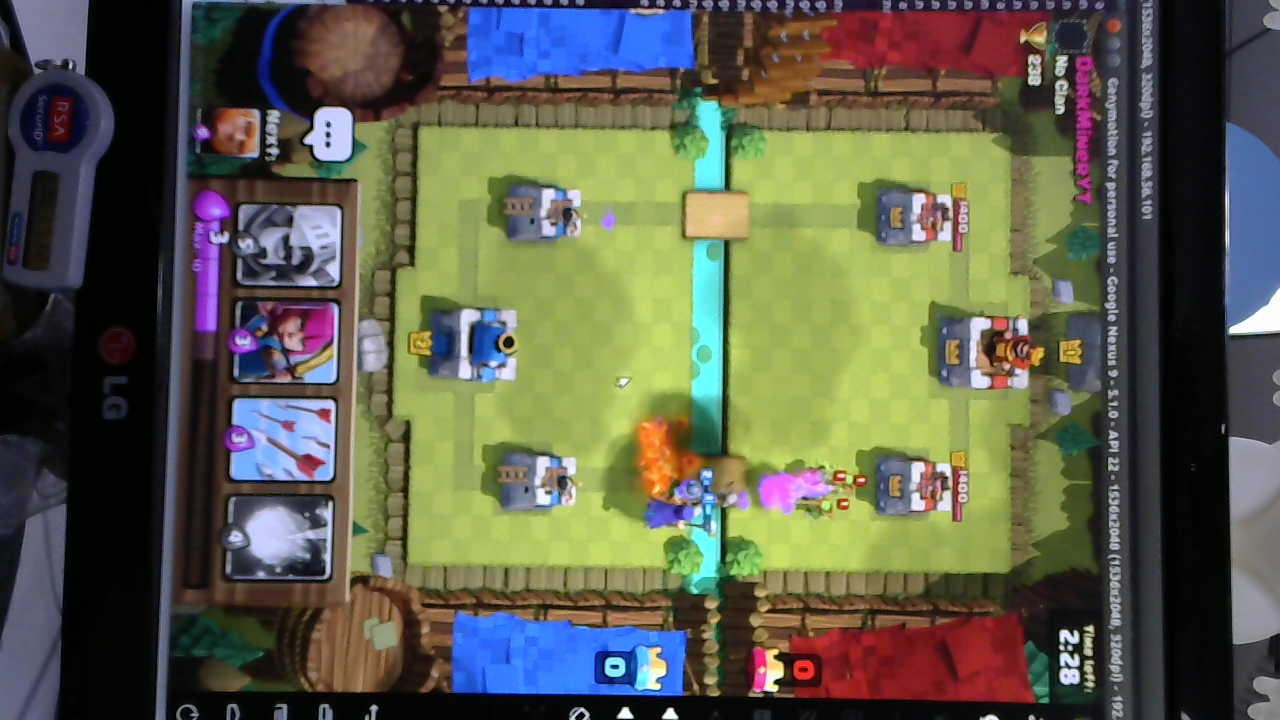arena: (500, 180, 588, 240), (493, 450, 579, 511)
earena: (869, 453, 957, 521), (873, 188, 955, 247)
eking: (927, 314, 1038, 390)
king: (428, 302, 516, 386)
musketeer: (658, 473, 706, 505)
speargoblins: (794, 459, 870, 515)
witch: (643, 496, 710, 534)
